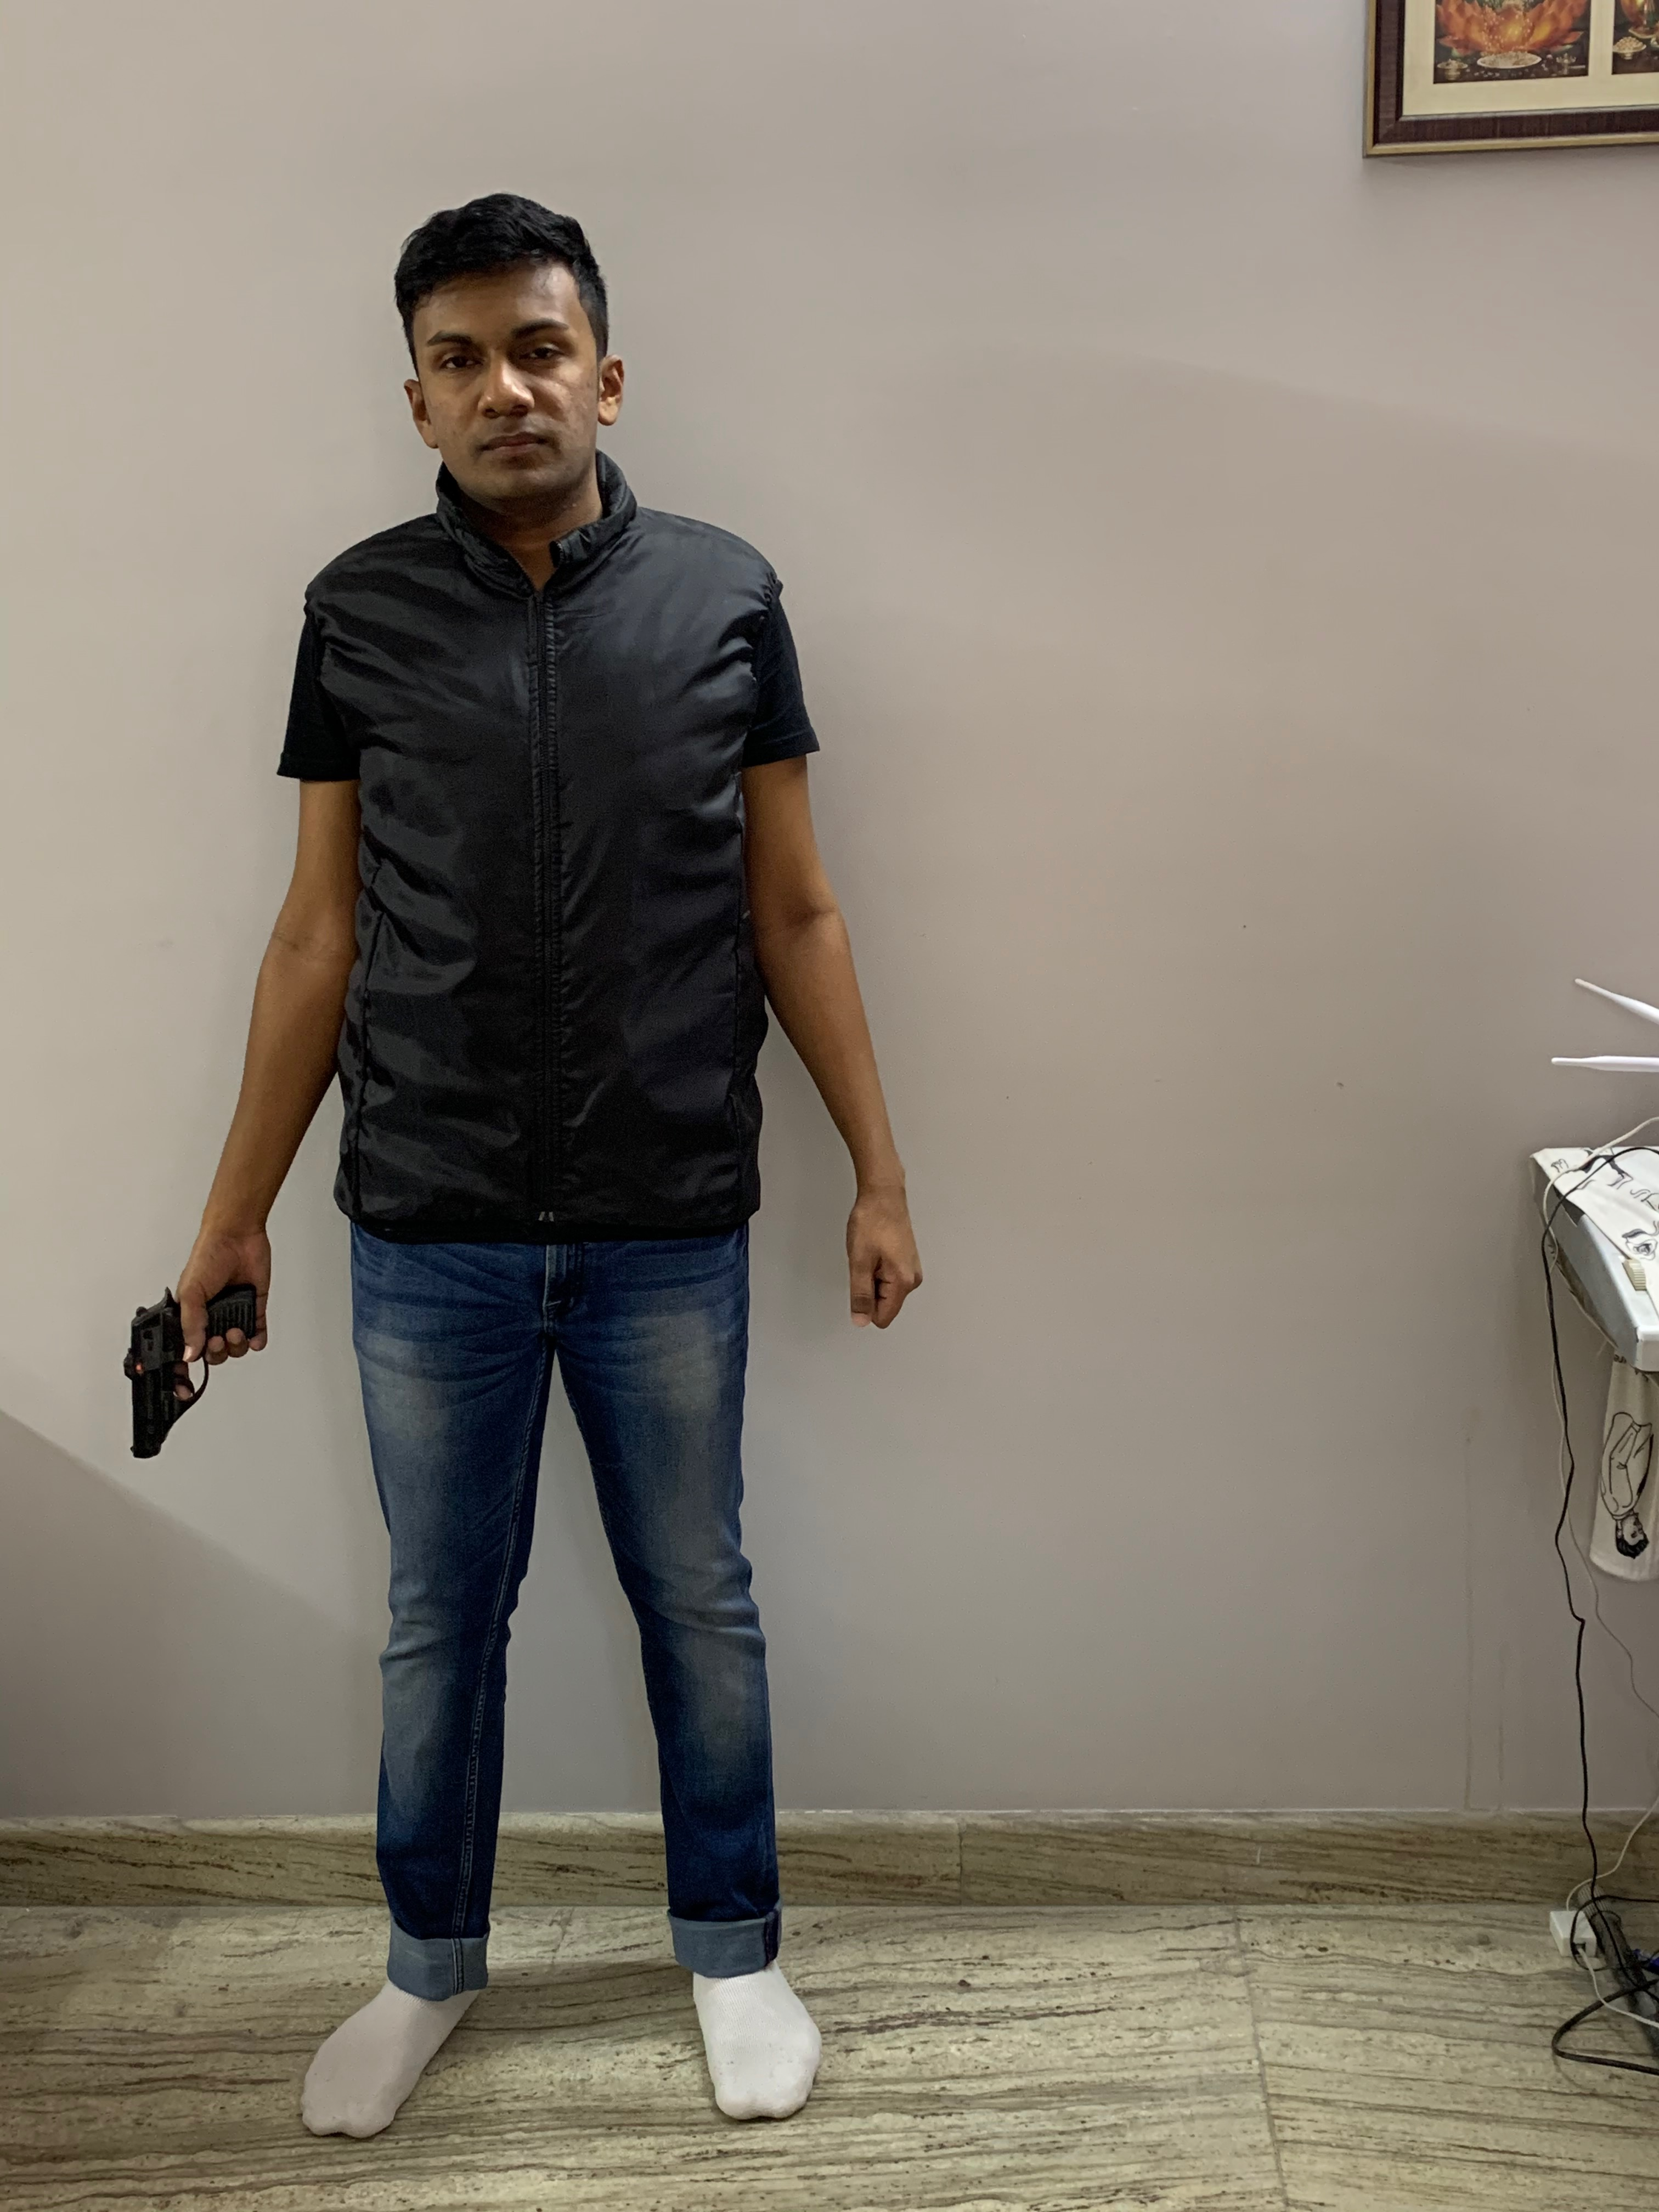gun: (120, 1278, 274, 1456)
